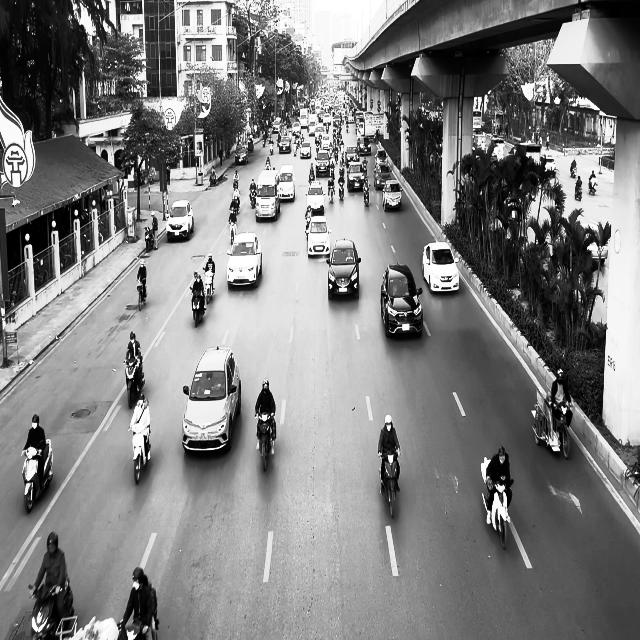car: (182, 345, 241, 454), (380, 264, 423, 338), (327, 238, 361, 300), (226, 231, 262, 289), (422, 242, 459, 294), (305, 215, 332, 259), (166, 199, 194, 241), (275, 164, 296, 202), (382, 179, 403, 211)
motorbike: (481, 456, 514, 550), (28, 576, 74, 640), (21, 439, 53, 513), (378, 450, 400, 518), (129, 423, 151, 484), (255, 411, 276, 471), (123, 355, 145, 408), (189, 286, 206, 327), (203, 267, 215, 304), (137, 279, 147, 311), (228, 216, 237, 245), (144, 226, 154, 250), (363, 181, 370, 206), (588, 177, 597, 195), (574, 182, 582, 200)
